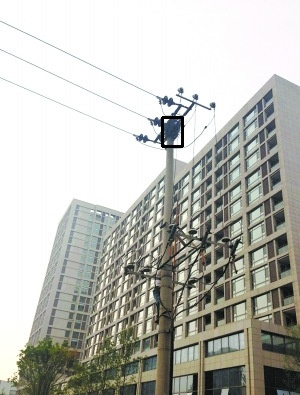bird-nest: (162, 117, 182, 146)
